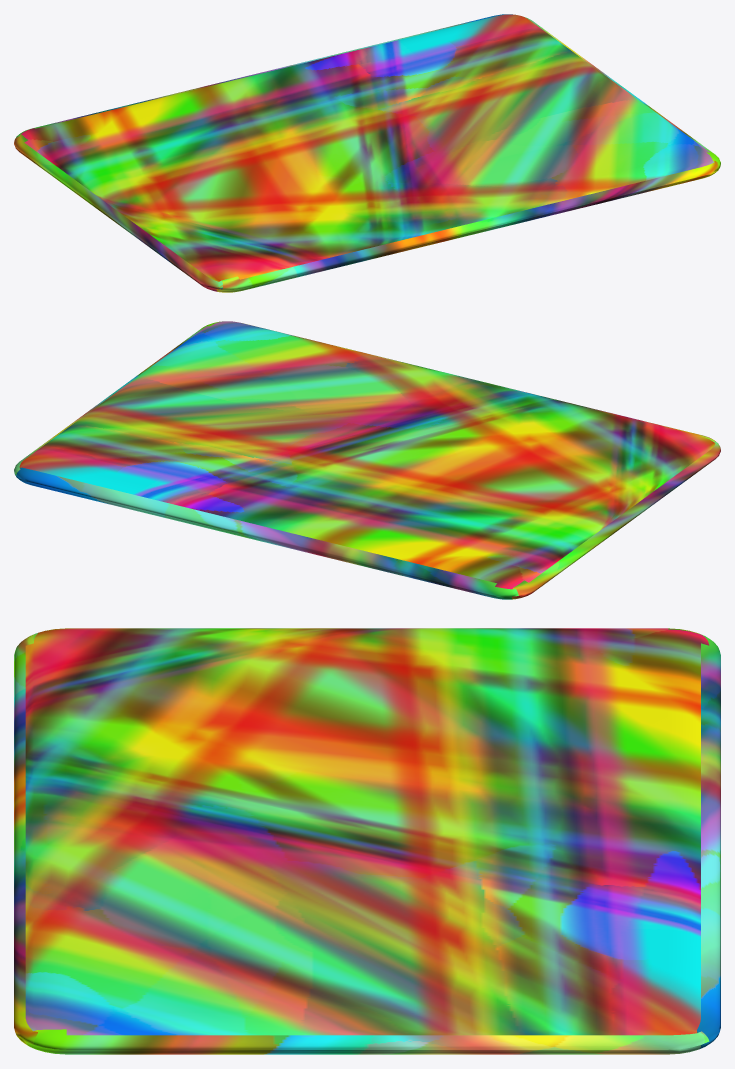
File: credit1.obj
The picture shows the model from 3 angles, top to bottom: view 1: azimuth 30°, elevation 25°; view 2: azimuth 150°, elevation 25°; view 3: azimuth 270°, elevation 25°; orthographic projection. The views are drawn at different scales.
Visible parts, largest first — view 1: Cube; view 2: Cube; view 3: Cube.
Boxes of the visible parts, x1,y1,x2,y2 form: Cube: [14, 14, 720, 292]; Cube: [14, 321, 720, 599]; Cube: [14, 628, 720, 1054].
Size of the model in its own units: 7.26 by 0.2505 by 5.21.
